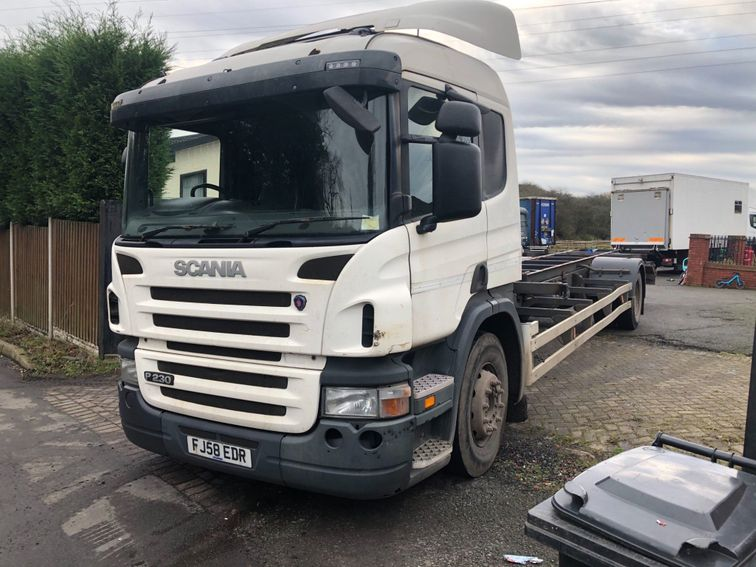Semi: (106, 0, 655, 499)
